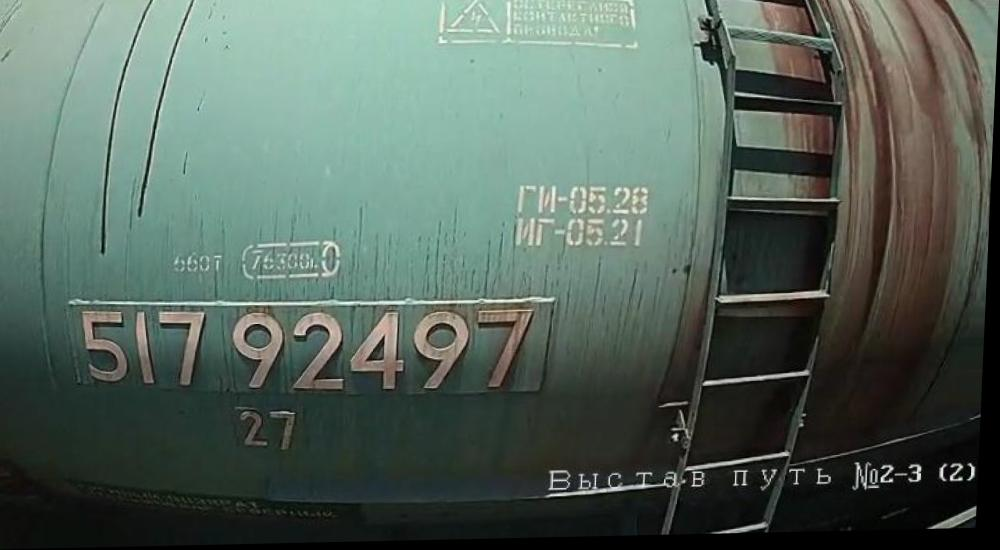Wagon-number: (72, 292, 549, 405)
